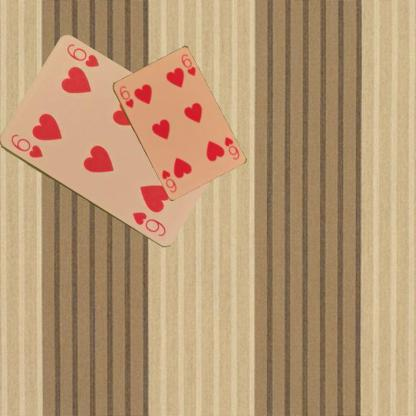6h: (7, 131, 44, 160), (222, 134, 240, 161), (116, 83, 134, 109)
